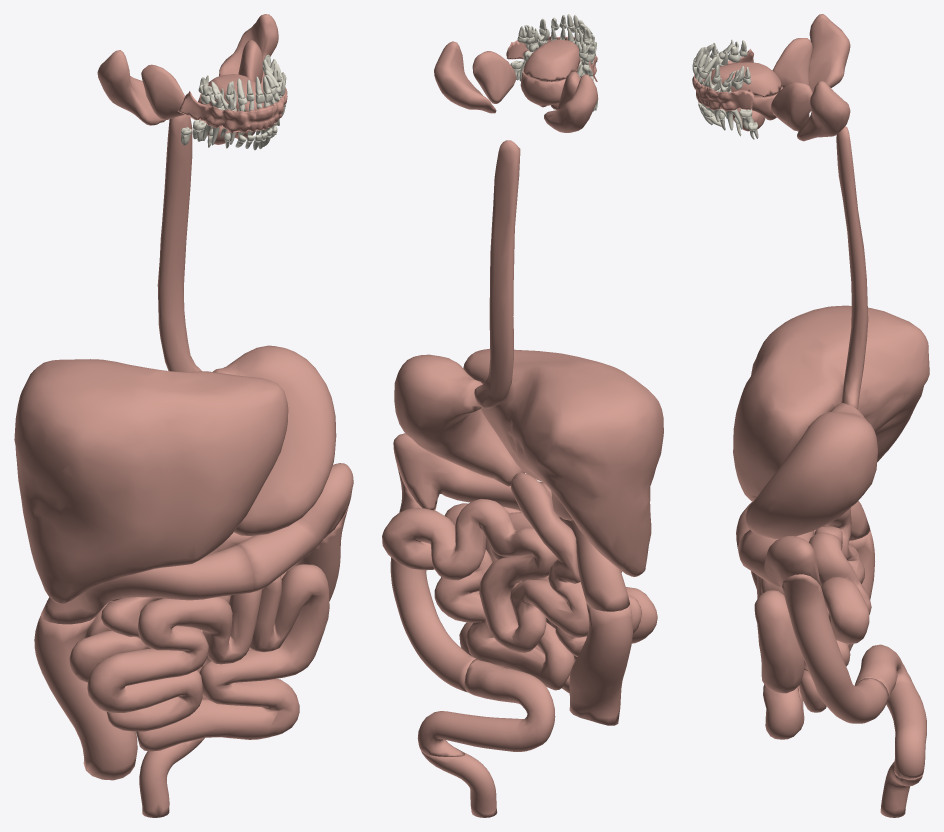
File: pediatric_child_5y_female.digestive.LOD0.glb
3 renders of one model, left to right at view 1: azimuth 30°, elevation 25°; view 2: azimuth 150°, elevation 25°; view 3: azimuth 270°, elevation 25°, orthographic. The views are drawn at different scales.
Visible parts, largest first — view 1: PEDIATRIC.CHILD_5Y.FEMALE.DIGESTIVE.LIVER, PEDIATRIC.CHILD_5Y.FEMALE.DIGESTIVE.SMALL_INTESTINE_WALL, PEDIATRIC.CHILD_5Y.FEMALE.DIGESTIVE.STOMACH_WALL, PEDIATRIC.CHILD_5Y.FEMALE.DIGESTIVE.ASCENDING_COLON_WALL, PEDIATRIC.CHILD_5Y.FEMALE.DIGESTIVE.TRANSVERSE_COLON_WALL.R, PEDIATRIC.CHILD_5Y.FEMALE.DIGESTIVE.OESOPHAGUS_WALL, PEDIATRIC.CHILD_5Y.FEMALE.DIGESTIVE.TRANSVERSE_COLON_WALL.L, PEDIATRIC.CHILD_5Y.FEMALE.DIGESTIVE.SALIVARY_GLANDS.R, PEDIATRIC.CHILD_5Y.FEMALE.DIGESTIVE.RECTUM_WALL, PEDIATRIC.CHILD_5Y.FEMALE.DIGESTIVE.SALIVARY_GLANDS.L, PEDIATRIC.CHILD_5Y.FEMALE.DIGESTIVE.ORAL_MUCOSA_LIP_AND_CHEE, PEDIATRIC.CHILD_5Y.FEMALE.DIGESTIVE.PERMANENT_CEMENTUM (+4 smaller); view 2: PEDIATRIC.CHILD_5Y.FEMALE.DIGESTIVE.SMALL_INTESTINE_WALL, PEDIATRIC.CHILD_5Y.FEMALE.DIGESTIVE.LIVER, PEDIATRIC.CHILD_5Y.FEMALE.DIGESTIVE.STOMACH_WALL, PEDIATRIC.CHILD_5Y.FEMALE.DIGESTIVE.SIGMOID_COLON_WALL, PEDIATRIC.CHILD_5Y.FEMALE.DIGESTIVE.OESOPHAGUS_WALL, PEDIATRIC.CHILD_5Y.FEMALE.DIGESTIVE.ASCENDING_COLON_WALL, PEDIATRIC.CHILD_5Y.FEMALE.DIGESTIVE.DESCENDING_COLON_WALL, PEDIATRIC.CHILD_5Y.FEMALE.DIGESTIVE.TRANSVERSE_COLON_WALL.L, PEDIATRIC.CHILD_5Y.FEMALE.DIGESTIVE.SALIVARY_GLANDS.L, PEDIATRIC.CHILD_5Y.FEMALE.DIGESTIVE.TRANSVERSE_COLON_WALL.R, PEDIATRIC.CHILD_5Y.FEMALE.DIGESTIVE.SALIVARY_GLANDS.R, PEDIATRIC.CHILD_5Y.FEMALE.DIGESTIVE.RECTUM_WALL (+5 smaller); view 3: PEDIATRIC.CHILD_5Y.FEMALE.DIGESTIVE.LIVER, PEDIATRIC.CHILD_5Y.FEMALE.DIGESTIVE.SMALL_INTESTINE_WALL, PEDIATRIC.CHILD_5Y.FEMALE.DIGESTIVE.STOMACH_WALL, PEDIATRIC.CHILD_5Y.FEMALE.DIGESTIVE.DESCENDING_COLON_WALL, PEDIATRIC.CHILD_5Y.FEMALE.DIGESTIVE.OESOPHAGUS_WALL, PEDIATRIC.CHILD_5Y.FEMALE.DIGESTIVE.SIGMOID_COLON_WALL, PEDIATRIC.CHILD_5Y.FEMALE.DIGESTIVE.SALIVARY_GLANDS.R, PEDIATRIC.CHILD_5Y.FEMALE.DIGESTIVE.SALIVARY_GLANDS.L, PEDIATRIC.CHILD_5Y.FEMALE.DIGESTIVE.TRANSVERSE_COLON_WALL.L, PEDIATRIC.CHILD_5Y.FEMALE.DIGESTIVE.ORAL_MUCOSA_MOUTH_FLOOR, PEDIATRIC.CHILD_5Y.FEMALE.DIGESTIVE.PERMANENT_CEMENTUM, PEDIATRIC.CHILD_5Y.FEMALE.DIGESTIVE.ORAL_MUCOSA_LIP_AND_CHEE (+5 smaller).
Boxes of the visible parts, box(x1,y1,x2,y2) form: PEDIATRIC.CHILD_5Y.FEMALE.DIGESTIVE.LIVER: box(14, 359, 288, 603); PEDIATRIC.CHILD_5Y.FEMALE.DIGESTIVE.SMALL_INTESTINE_WALL: box(69, 532, 329, 751); PEDIATRIC.CHILD_5Y.FEMALE.DIGESTIVE.STOMACH_WALL: box(213, 345, 336, 535); PEDIATRIC.CHILD_5Y.FEMALE.DIGESTIVE.ASCENDING_COLON_WALL: box(34, 616, 137, 780); PEDIATRIC.CHILD_5Y.FEMALE.DIGESTIVE.TRANSVERSE_COLON_WALL.R: box(40, 545, 254, 624); PEDIATRIC.CHILD_5Y.FEMALE.DIGESTIVE.OESOPHAGUS_WALL: box(157, 115, 201, 372); PEDIATRIC.CHILD_5Y.FEMALE.DIGESTIVE.TRANSVERSE_COLON_WALL.L: box(236, 463, 353, 592); PEDIATRIC.CHILD_5Y.FEMALE.DIGESTIVE.SALIVARY_GLANDS.R: box(97, 50, 236, 144); PEDIATRIC.CHILD_5Y.FEMALE.DIGESTIVE.RECTUM_WALL: box(139, 738, 204, 817); PEDIATRIC.CHILD_5Y.FEMALE.DIGESTIVE.SALIVARY_GLANDS.L: box(219, 14, 278, 138); PEDIATRIC.CHILD_5Y.FEMALE.DIGESTIVE.ORAL_MUCOSA_LIP_AND_CHEE: box(178, 87, 287, 133); PEDIATRIC.CHILD_5Y.FEMALE.DIGESTIVE.PERMANENT_CEMENTUM: box(181, 54, 285, 150); PEDIATRIC.CHILD_5Y.FEMALE.DIGESTIVE.SMALL_INTESTINE_WALL: box(382, 472, 657, 693); PEDIATRIC.CHILD_5Y.FEMALE.DIGESTIVE.LIVER: box(463, 348, 663, 576); PEDIATRIC.CHILD_5Y.FEMALE.DIGESTIVE.STOMACH_WALL: box(394, 354, 524, 486); PEDIATRIC.CHILD_5Y.FEMALE.DIGESTIVE.SIGMOID_COLON_WALL: box(417, 658, 555, 756); PEDIATRIC.CHILD_5Y.FEMALE.DIGESTIVE.OESOPHAGUS_WALL: box(474, 140, 520, 408); PEDIATRIC.CHILD_5Y.FEMALE.DIGESTIVE.ASCENDING_COLON_WALL: box(569, 604, 632, 725); PEDIATRIC.CHILD_5Y.FEMALE.DIGESTIVE.DESCENDING_COLON_WALL: box(390, 466, 476, 691); PEDIATRIC.CHILD_5Y.FEMALE.DIGESTIVE.TRANSVERSE_COLON_WALL.L: box(393, 433, 521, 511); PEDIATRIC.CHILD_5Y.FEMALE.DIGESTIVE.SALIVARY_GLANDS.L: box(434, 41, 546, 113); PEDIATRIC.CHILD_5Y.FEMALE.DIGESTIVE.TRANSVERSE_COLON_WALL.R: box(539, 481, 629, 611); PEDIATRIC.CHILD_5Y.FEMALE.DIGESTIVE.SALIVARY_GLANDS.R: box(544, 71, 597, 132); PEDIATRIC.CHILD_5Y.FEMALE.DIGESTIVE.RECTUM_WALL: box(421, 751, 497, 817); PEDIATRIC.CHILD_5Y.FEMALE.DIGESTIVE.LIVER: box(733, 305, 929, 501); PEDIATRIC.CHILD_5Y.FEMALE.DIGESTIVE.SMALL_INTESTINE_WALL: box(751, 508, 871, 739); PEDIATRIC.CHILD_5Y.FEMALE.DIGESTIVE.STOMACH_WALL: box(745, 403, 877, 539); PEDIATRIC.CHILD_5Y.FEMALE.DIGESTIVE.DESCENDING_COLON_WALL: box(782, 574, 888, 723); PEDIATRIC.CHILD_5Y.FEMALE.DIGESTIVE.OESOPHAGUS_WALL: box(836, 126, 868, 408); PEDIATRIC.CHILD_5Y.FEMALE.DIGESTIVE.SIGMOID_COLON_WALL: box(854, 644, 926, 778); PEDIATRIC.CHILD_5Y.FEMALE.DIGESTIVE.SALIVARY_GLANDS.R: box(772, 14, 850, 92); PEDIATRIC.CHILD_5Y.FEMALE.DIGESTIVE.SALIVARY_GLANDS.L: box(733, 81, 850, 141); PEDIATRIC.CHILD_5Y.FEMALE.DIGESTIVE.TRANSVERSE_COLON_WALL.L: box(738, 530, 821, 589); PEDIATRIC.CHILD_5Y.FEMALE.DIGESTIVE.ORAL_MUCOSA_MOUTH_FLOOR: box(709, 62, 782, 97); PEDIATRIC.CHILD_5Y.FEMALE.DIGESTIVE.PERMANENT_CEMENTUM: box(693, 39, 758, 139); PEDIATRIC.CHILD_5Y.FEMALE.DIGESTIVE.ORAL_MUCOSA_LIP_AND_CHEE: box(692, 49, 754, 111).
Bounding box in the file's own units: 0.188 × 0.4791 × 0.1346.
